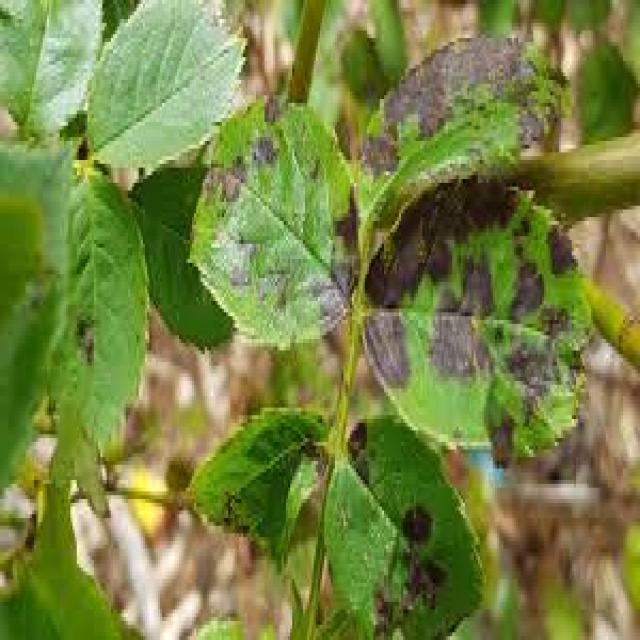black-spot: (359, 147, 534, 458)
